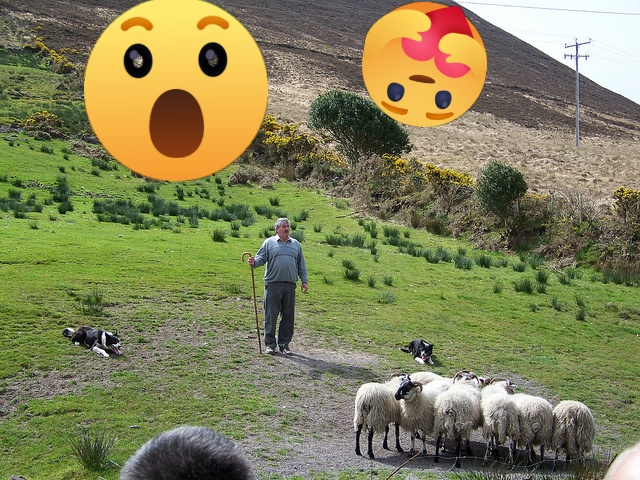care: (362, 2, 487, 127)
wow: (84, 0, 268, 181)
